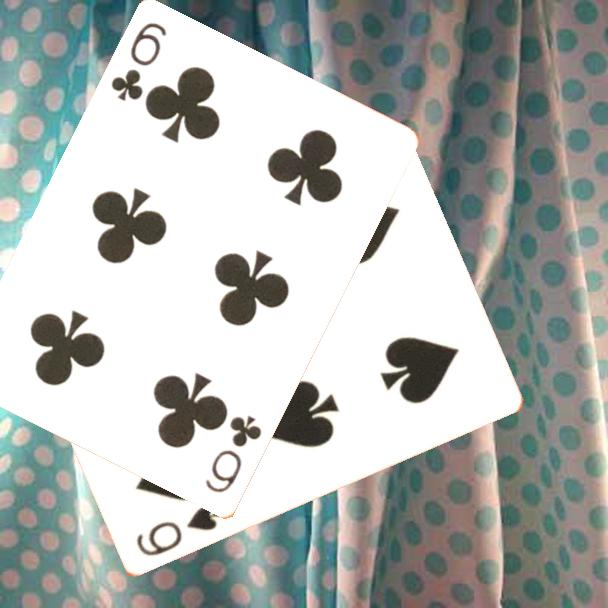c06: (107, 19, 170, 105), (202, 412, 265, 497)
s06: (132, 503, 224, 560)
